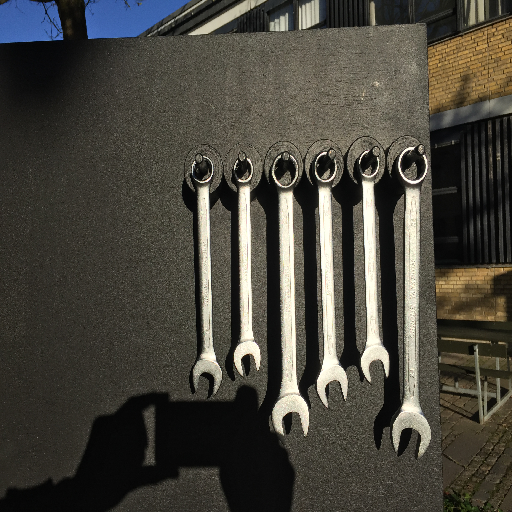bottom: (390, 407, 433, 459), (270, 395, 310, 442), (314, 364, 350, 409), (357, 344, 391, 384), (190, 356, 224, 395), (232, 341, 262, 377)
top: (395, 145, 428, 187), (269, 150, 300, 193), (313, 150, 338, 187), (355, 148, 381, 182), (190, 155, 215, 186), (232, 156, 255, 188)
